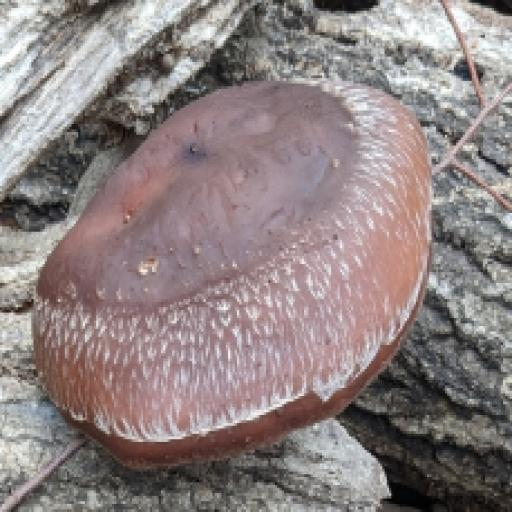Shiitake Mushroom: (42, 84, 432, 455)
